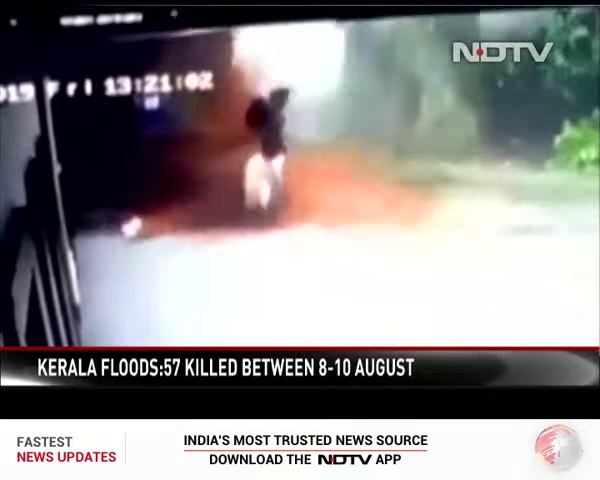person: (243, 92, 286, 212)
